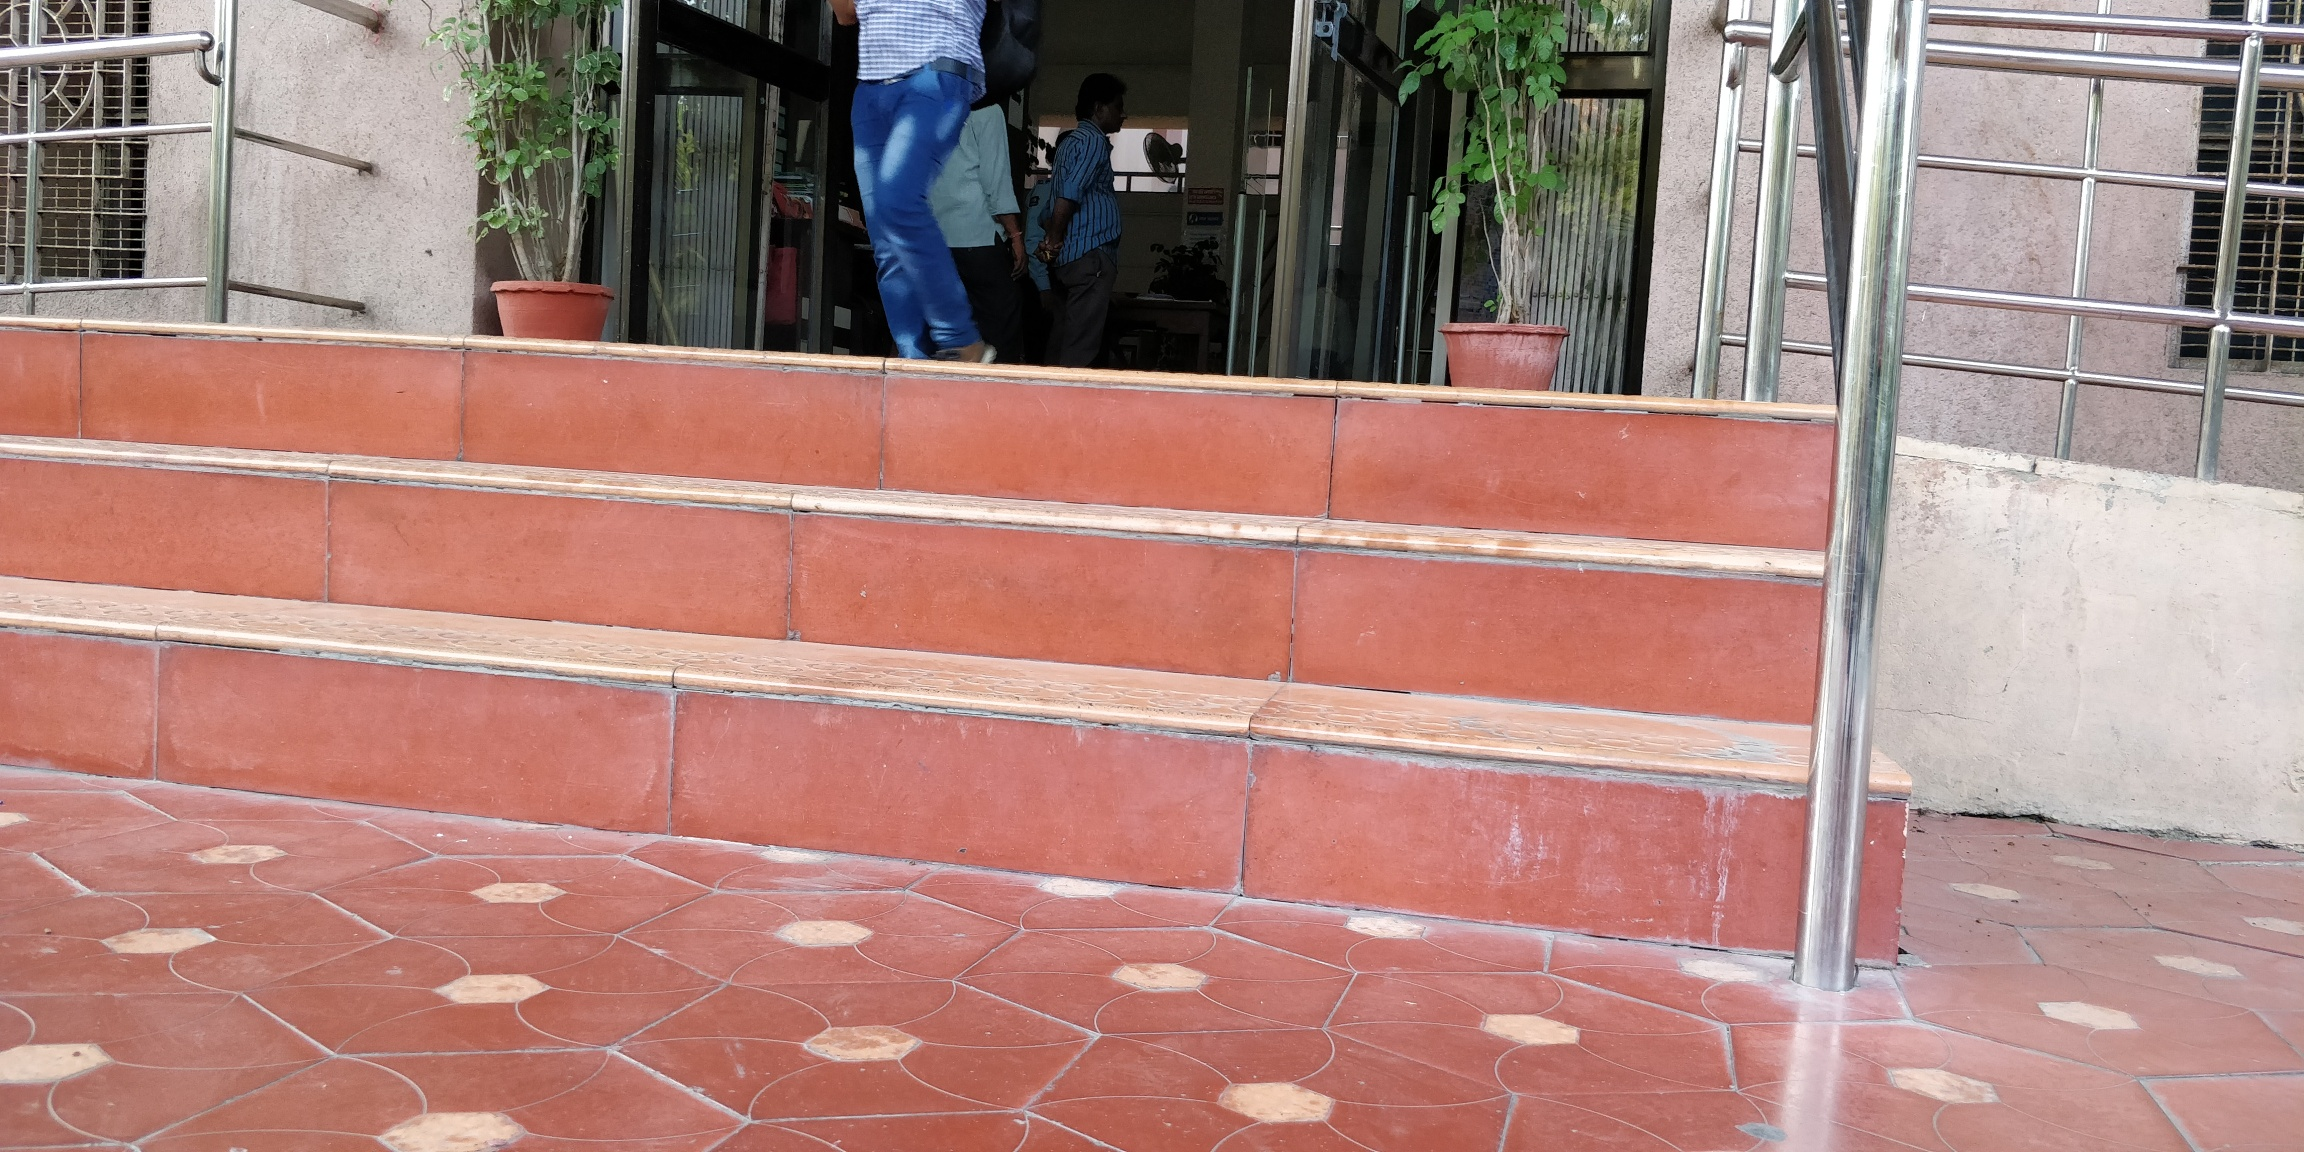stairs_up: (1, 312, 1846, 949)
